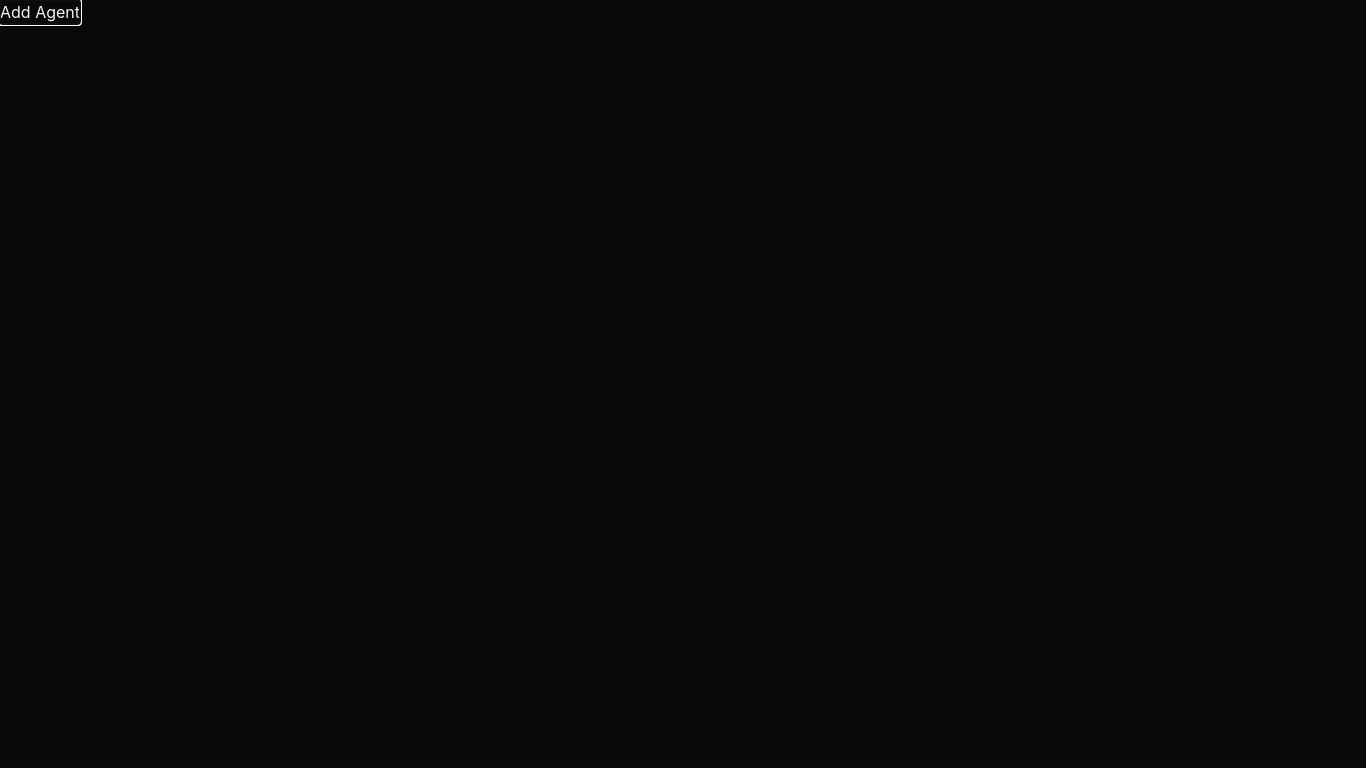
Test: AddAgentModal focus trap › closes on Cancel and returns focus to the opener
Click the button with id "opener" at (40, 12), box [0,0,80,24]
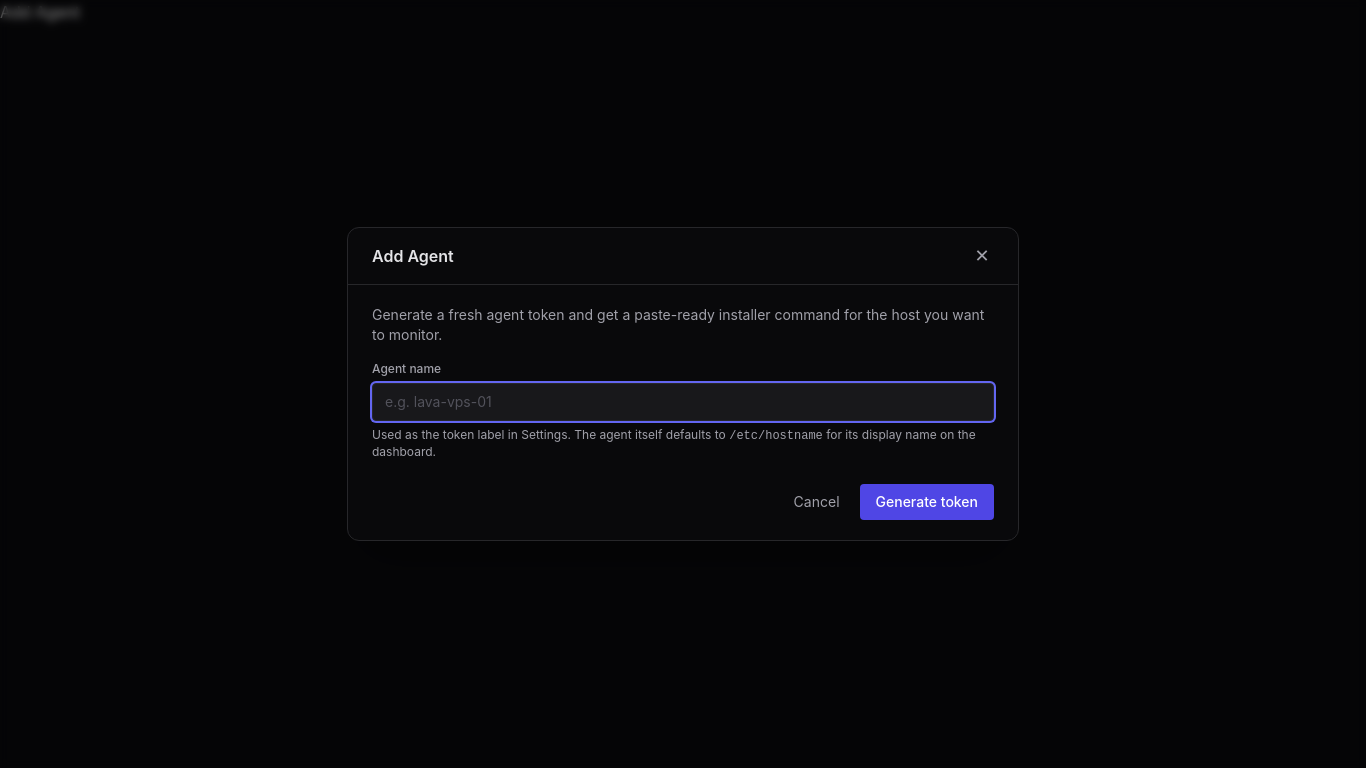
Click the button "Cancel" at (817, 502), box [782,484,852,520]
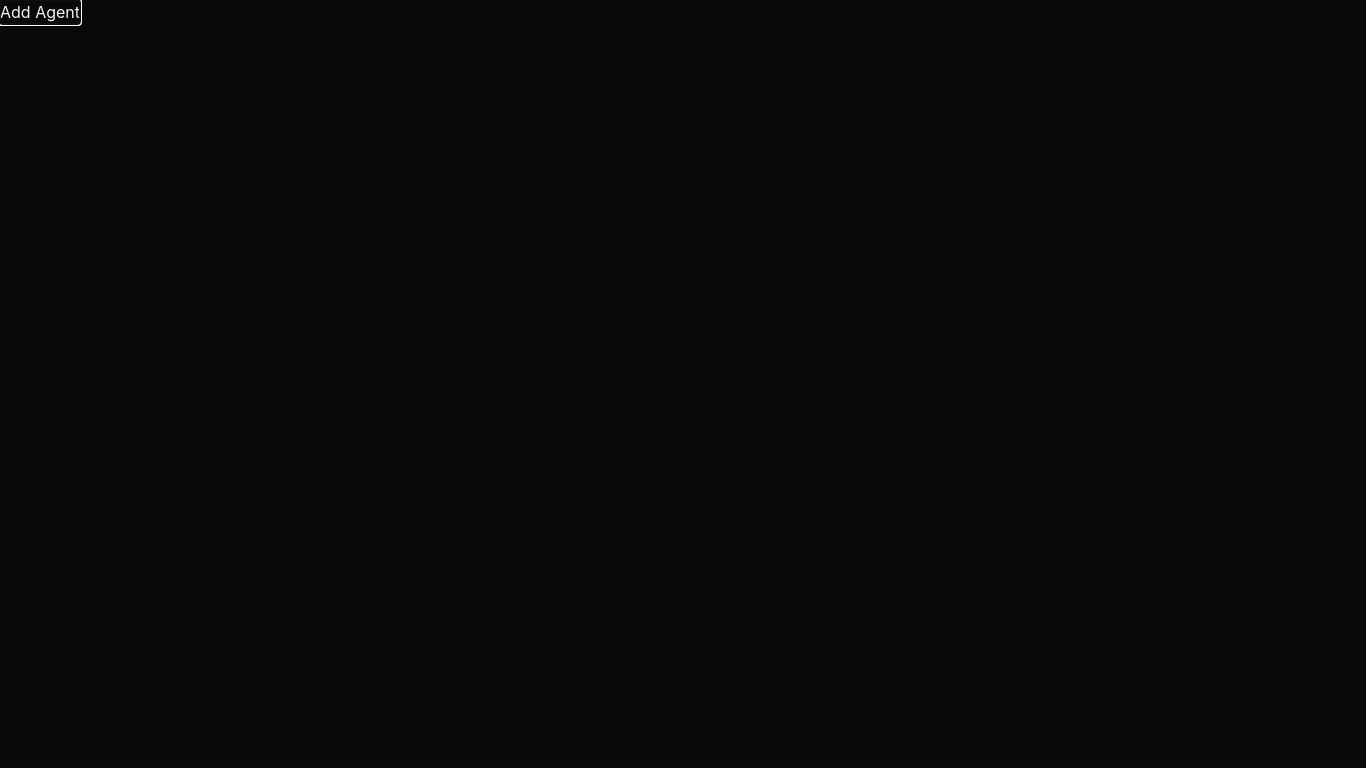
Expected: the dialog is gone
